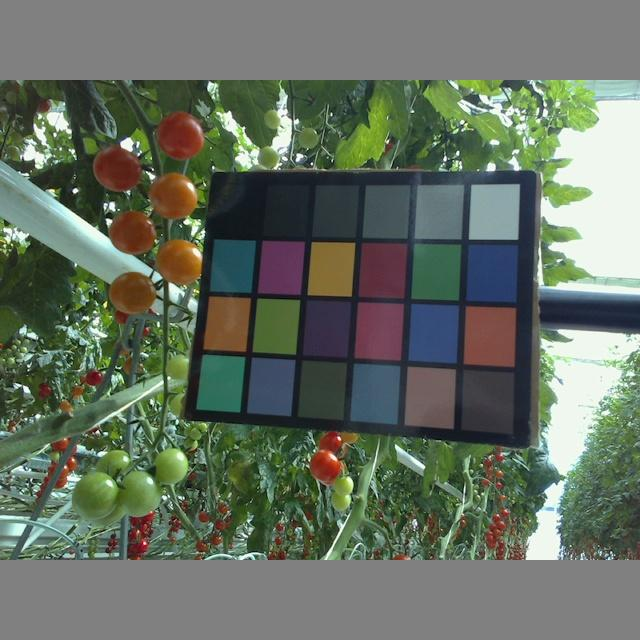green: (71, 471, 121, 522), (115, 469, 161, 518), (150, 447, 190, 486), (92, 449, 131, 477), (163, 353, 191, 380)
pink: (155, 111, 205, 162), (92, 146, 144, 192), (108, 207, 156, 255), (148, 174, 197, 221), (159, 237, 203, 287), (107, 274, 161, 313), (311, 449, 342, 484), (315, 433, 343, 450)
